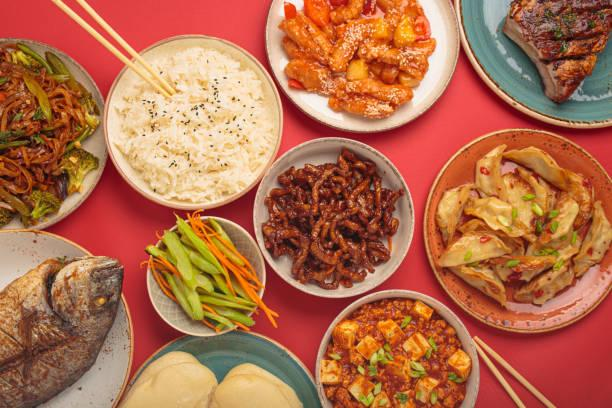Braised Crucian Carp: (423, 128, 610, 332), (103, 34, 277, 211), (262, 0, 455, 135), (255, 136, 413, 300), (317, 288, 479, 406), (145, 217, 267, 338)
